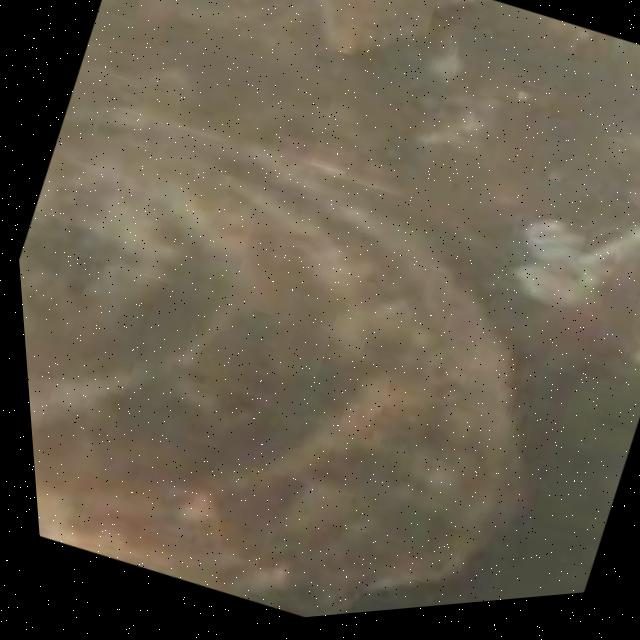Oyster-Indeterminate: (19, 100, 519, 598)
